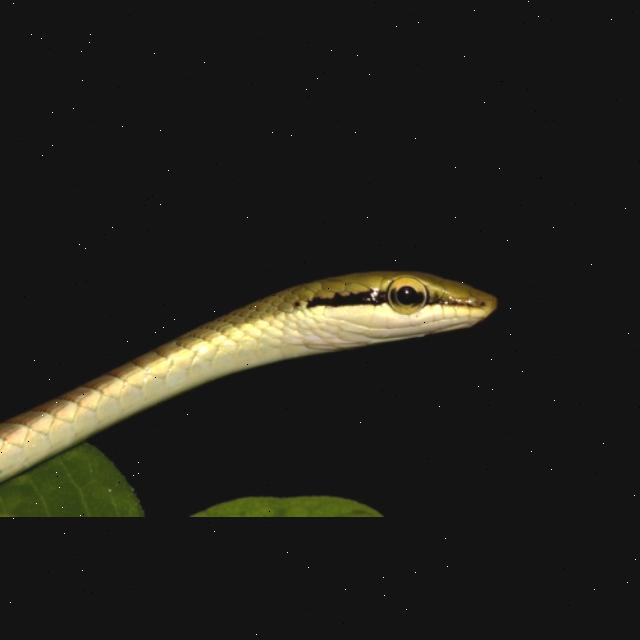snake: (0, 260, 498, 486)
